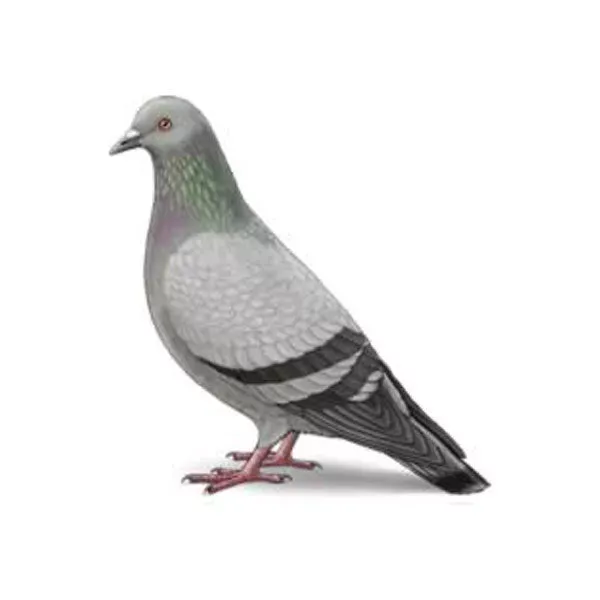Flying Rat: (110, 85, 517, 505)
